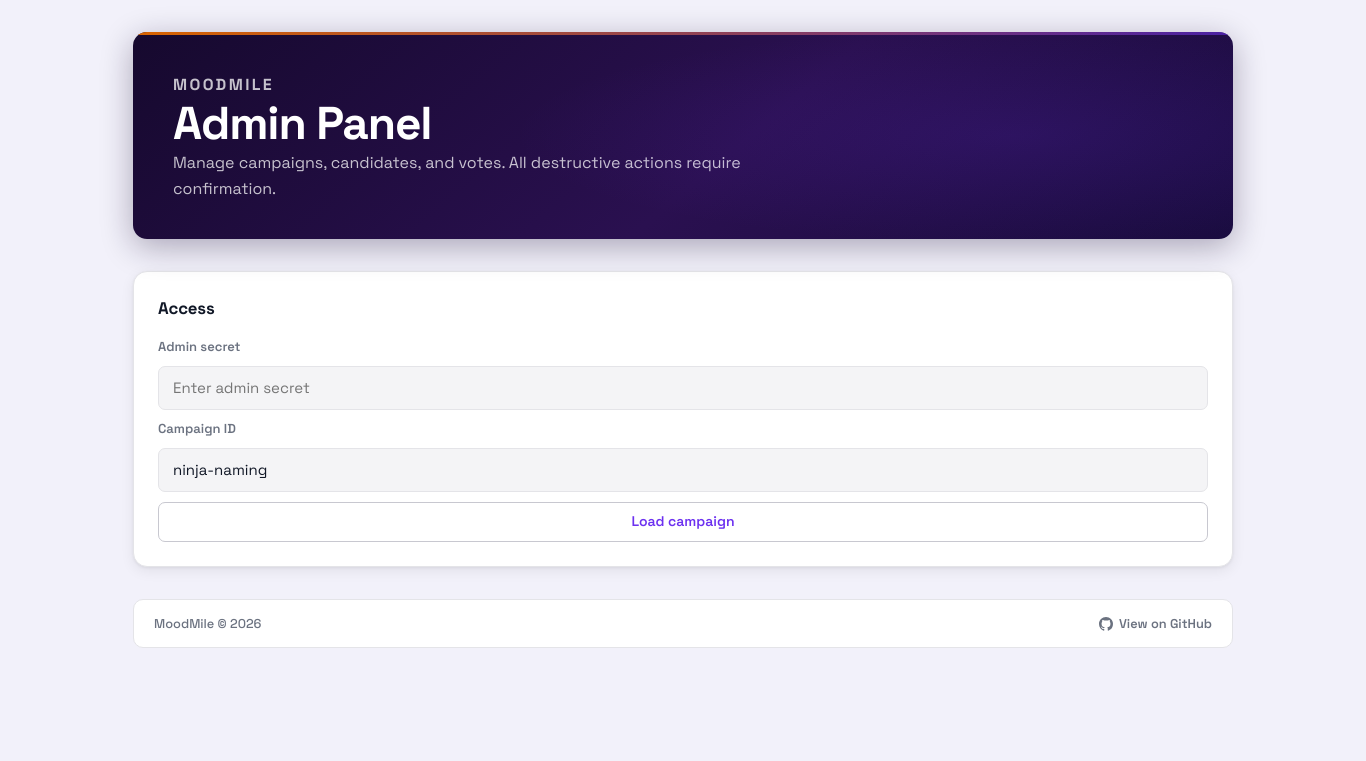
Test case: AdminPage document title › downloads a campaign export from the admin portal
This screenshot has width=1366, height=761.
Step 1. Type "secret" into the password field labelled "Admin secret" → (683, 388), box [158,366,1208,410]
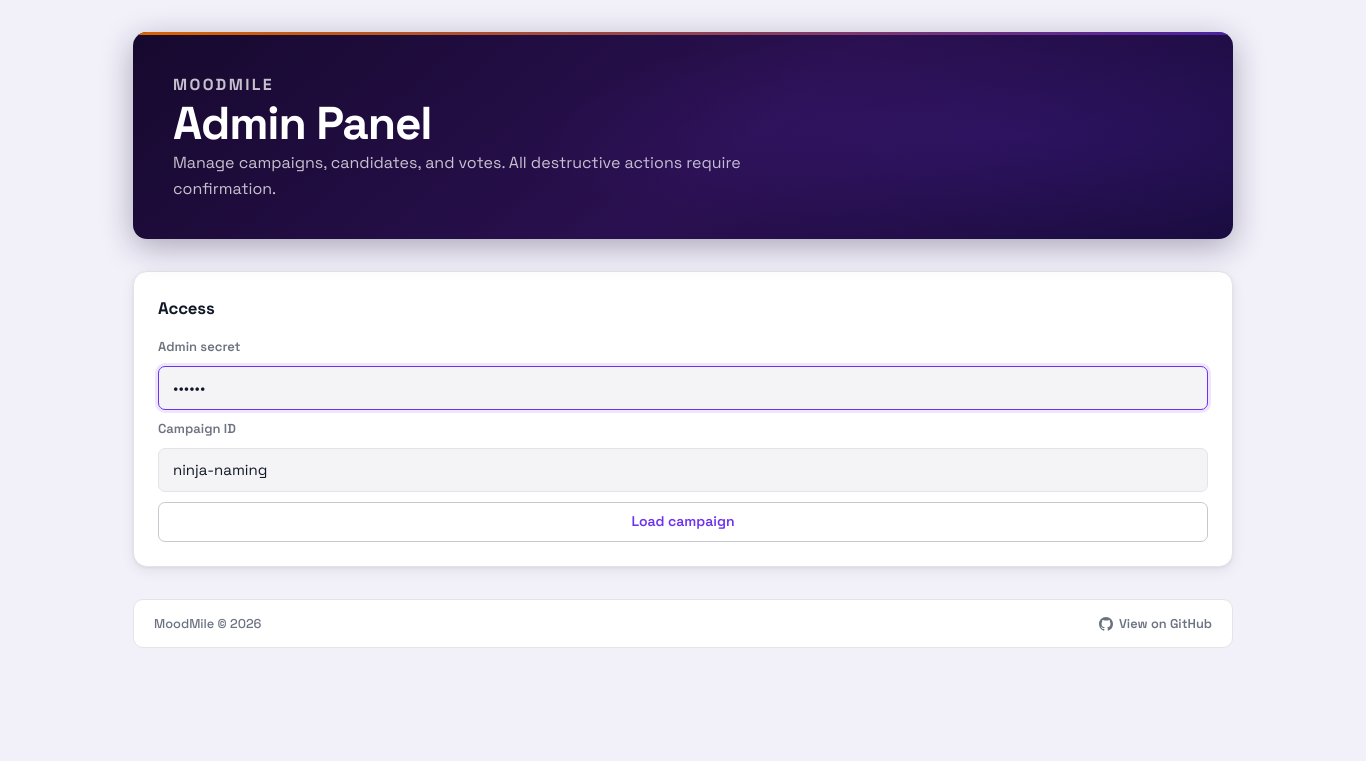
Step 2. Click the button "Load campaign" → (683, 522), box [158,502,1208,542]
(page scrolled)
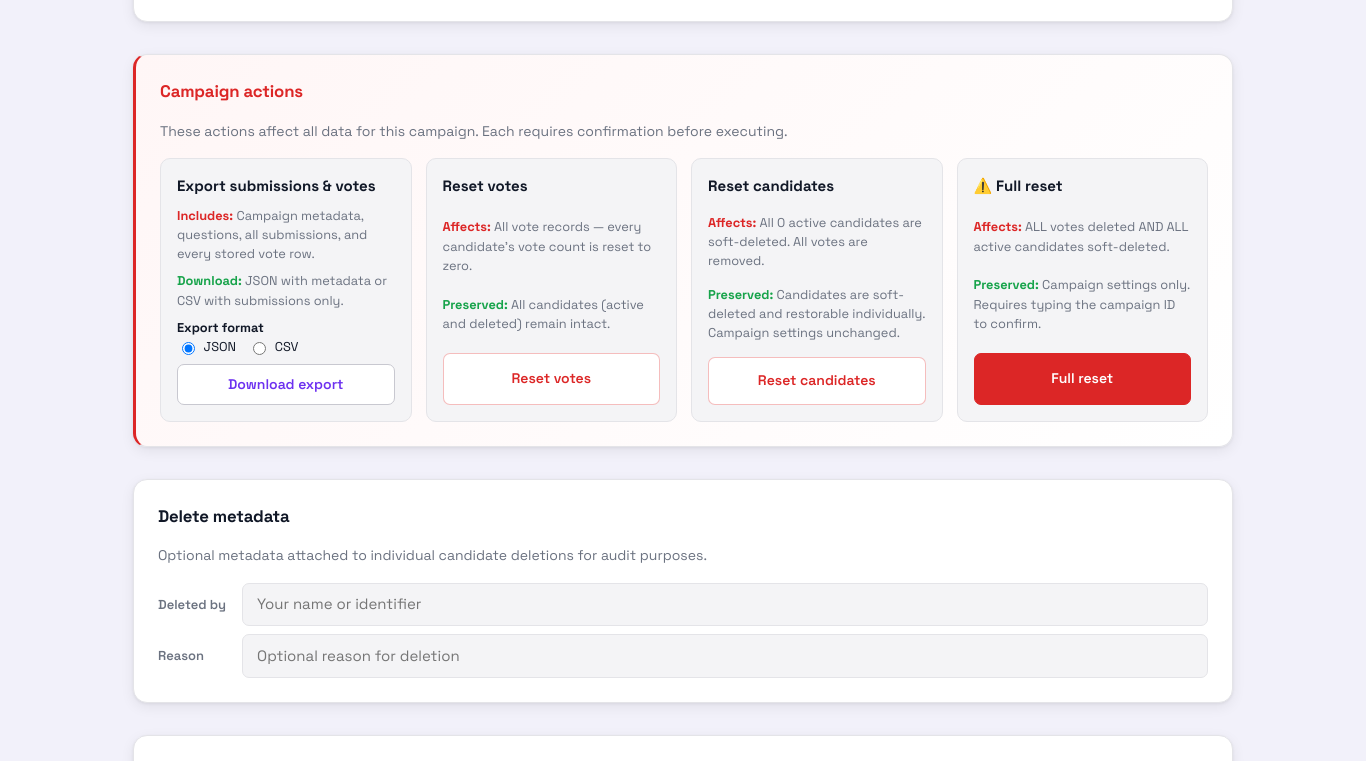
Step 3. Click the button "Download export" → (286, 384), box [177,364,394,405]
(page scrolled)
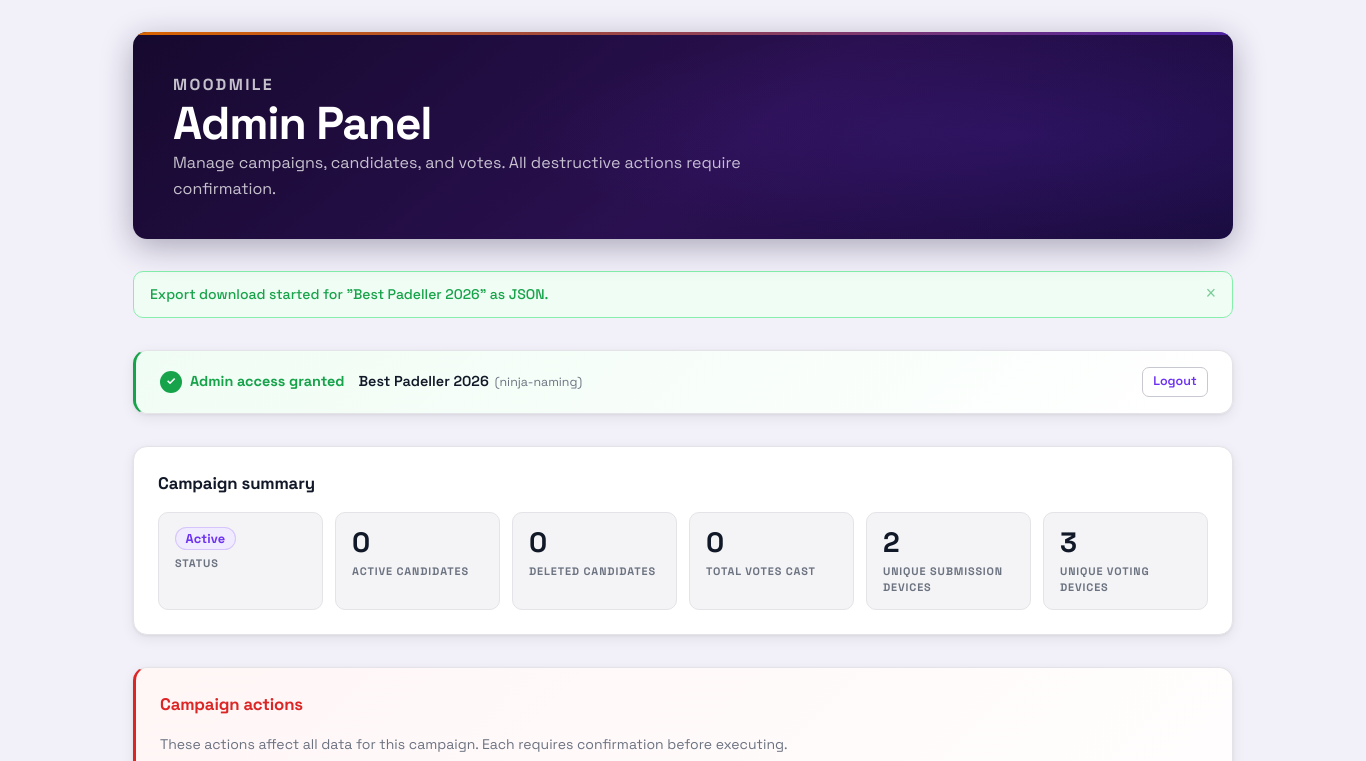
Now the message shows "Export download started for \"Best Padeller 2026\" as JSON.", box [150,285,548,303]
